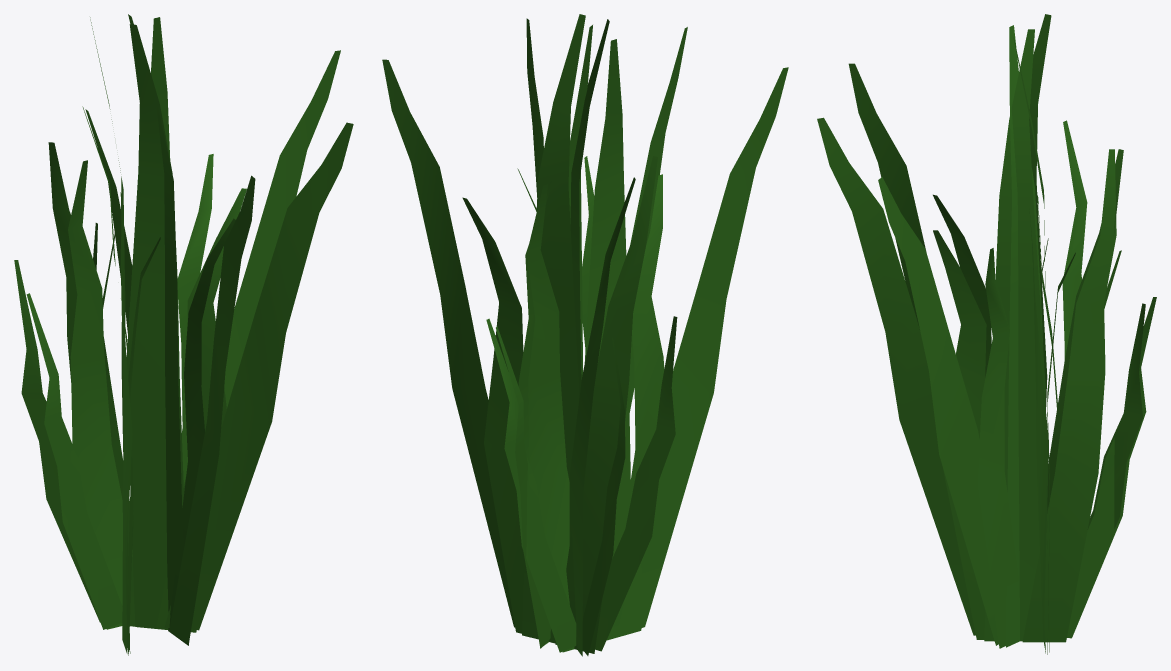
The model's file is final_grass.glb.
3 views of the same model, side by side, from view 1: azimuth 30°, elevation 25°; view 2: azimuth 150°, elevation 25°; view 3: azimuth 270°, elevation 25° (orthographic). The views are drawn at different scales.
Parts seen in each view (by area): view 1: Plane.001; view 2: Plane.001; view 3: Plane.001.
Boxes of the visible parts, x1,y1,x2,y2 form: Plane.001: [14, 14, 353, 655]; Plane.001: [382, 14, 788, 656]; Plane.001: [817, 14, 1156, 654].
Size of the model in its own units: 2.54 by 4.78 by 2.47.
